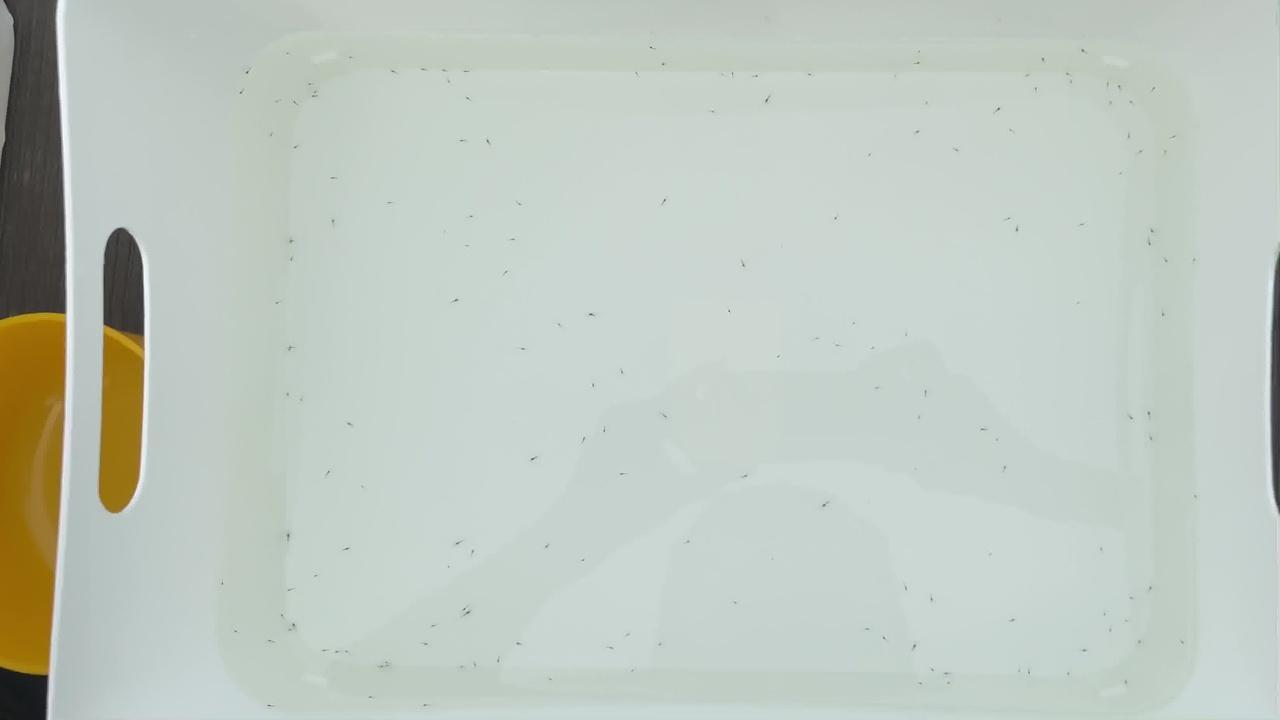shrimp: (1167, 135, 1180, 143), (728, 69, 741, 77), (864, 152, 877, 160), (1071, 301, 1084, 309), (1124, 595, 1137, 603), (1122, 617, 1135, 625), (1175, 639, 1188, 647), (1013, 666, 1026, 674), (1007, 617, 1020, 625), (926, 595, 939, 603), (818, 501, 831, 509), (606, 645, 619, 653), (513, 639, 526, 647), (276, 611, 289, 619), (280, 534, 293, 542), (310, 573, 323, 581), (617, 367, 630, 375), (552, 323, 565, 331), (461, 68, 474, 76), (441, 80, 454, 88), (309, 96, 322, 104), (302, 80, 315, 88), (1005, 130, 1017, 138), (717, 69, 729, 77), (762, 96, 774, 104), (1189, 495, 1201, 503), (900, 329, 912, 337), (457, 666, 469, 674), (285, 346, 297, 354), (280, 52, 292, 60), (1060, 70, 1073, 77), (1065, 78, 1078, 85), (1031, 89, 1044, 96), (992, 105, 1005, 112), (1023, 74, 1036, 81), (1039, 57, 1052, 64), (1101, 82, 1114, 89), (1114, 83, 1127, 90), (1102, 101, 1115, 108), (1147, 87, 1160, 94), (1158, 150, 1171, 157), (1121, 134, 1134, 141), (1118, 173, 1131, 180), (1160, 255, 1173, 262), (1157, 312, 1170, 319), (1076, 221, 1089, 228), (1000, 215, 1013, 222), (1010, 226, 1023, 233), (948, 150, 961, 157), (918, 97, 931, 104), (912, 49, 925, 56), (887, 73, 900, 80), (803, 74, 816, 81), (748, 75, 761, 82), (705, 108, 718, 115), (644, 44, 657, 51), (631, 70, 644, 77), (829, 217, 842, 224), (1143, 435, 1156, 442), (1143, 585, 1156, 592), (1094, 548, 1107, 555), (1102, 628, 1115, 635), (1097, 612, 1110, 619), (1134, 640, 1147, 647), (1120, 682, 1133, 689), (1075, 650, 1088, 657), (1022, 671, 1035, 678), (899, 582, 912, 589), (878, 636, 891, 643), (908, 643, 921, 650), (925, 664, 938, 671), (940, 669, 953, 676), (944, 681, 957, 688), (914, 680, 927, 687), (991, 437, 1004, 444), (975, 426, 988, 433), (919, 391, 932, 398), (873, 386, 886, 393), (849, 322, 862, 329), (831, 341, 844, 348), (807, 337, 820, 344), (773, 355, 786, 362), (737, 474, 750, 481), (681, 541, 694, 548), (729, 599, 742, 606), (655, 640, 668, 647), (625, 668, 638, 675), (545, 676, 558, 683), (488, 657, 501, 664), (469, 661, 482, 668), (419, 705, 432, 712), (214, 580, 227, 587), (228, 631, 241, 638), (283, 628, 296, 635), (288, 619, 301, 626), (282, 586, 295, 593), (345, 547, 358, 554), (319, 648, 332, 655), (331, 649, 344, 656), (339, 647, 352, 654), (374, 663, 387, 670), (380, 661, 393, 668), (419, 641, 432, 648), (426, 622, 439, 629), (464, 611, 477, 618), (461, 603, 474, 610), (578, 557, 591, 564), (541, 544, 554, 551), (466, 548, 479, 555), (441, 566, 454, 573), (450, 541, 463, 548), (617, 471, 630, 478), (658, 412, 671, 419), (600, 428, 613, 435), (525, 457, 538, 464), (586, 381, 599, 388), (735, 256, 748, 263), (722, 309, 735, 316), (658, 199, 671, 206), (586, 310, 599, 317), (515, 347, 528, 354), (296, 397, 309, 404), (281, 391, 294, 398), (271, 299, 284, 306), (283, 236, 296, 243), (326, 220, 339, 227), (382, 200, 395, 207), (446, 300, 459, 307), (499, 267, 512, 274), (461, 245, 474, 252), (464, 214, 477, 221), (480, 138, 493, 145), (460, 97, 473, 104), (437, 64, 450, 71), (416, 68, 429, 75), (389, 70, 402, 77), (237, 71, 250, 78), (234, 89, 247, 96), (272, 97, 285, 104), (287, 100, 300, 107), (311, 89, 324, 96), (264, 133, 277, 140), (289, 145, 302, 152), (326, 175, 339, 182), (1078, 49, 1090, 56), (1127, 102, 1139, 109), (1133, 148, 1145, 155), (1144, 228, 1156, 235), (1144, 241, 1156, 248), (1188, 256, 1200, 263), (912, 131, 924, 138), (912, 60, 924, 67), (657, 62, 669, 69), (1144, 412, 1156, 419), (1122, 415, 1134, 422), (1061, 672, 1073, 679), (861, 627, 873, 634), (1000, 468, 1012, 475), (912, 415, 924, 422), (867, 343, 879, 350), (623, 630, 635, 637), (363, 695, 375, 702), (263, 704, 275, 711), (264, 638, 276, 645), (579, 436, 591, 443), (319, 472, 331, 479), (358, 486, 370, 493), (341, 422, 353, 429), (285, 256, 297, 263), (507, 239, 519, 246), (513, 201, 525, 208), (452, 138, 464, 145), (346, 56, 358, 63)
